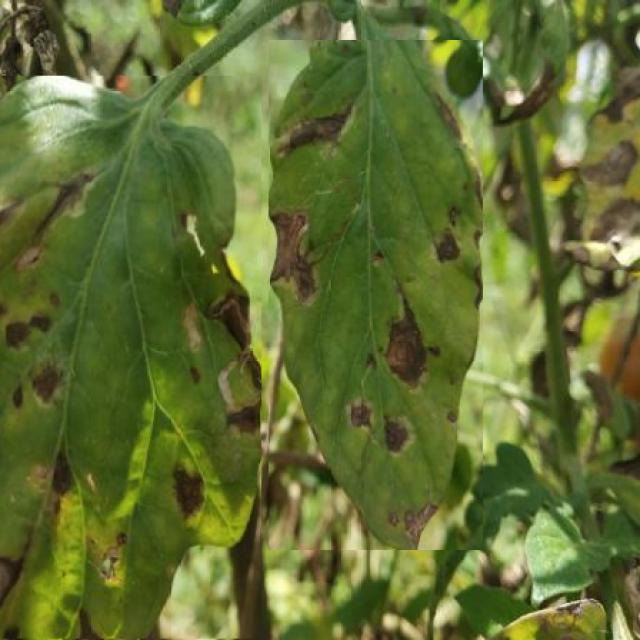Early Blight: (0, 76, 261, 639), (268, 40, 483, 550)
